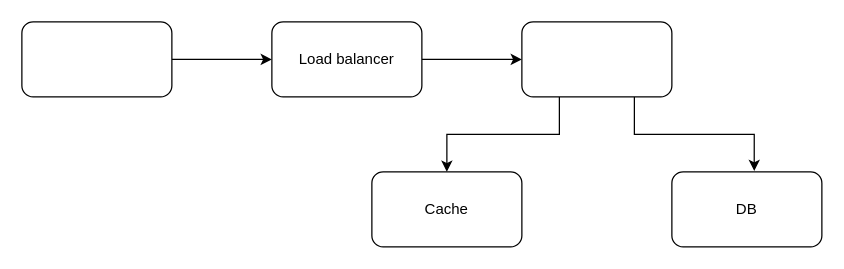
This 844x269 diagram has some shape labels left out. Each missing label, with the box of its shape:
User: (21, 21, 172, 97)
Web server: (521, 21, 672, 97)
